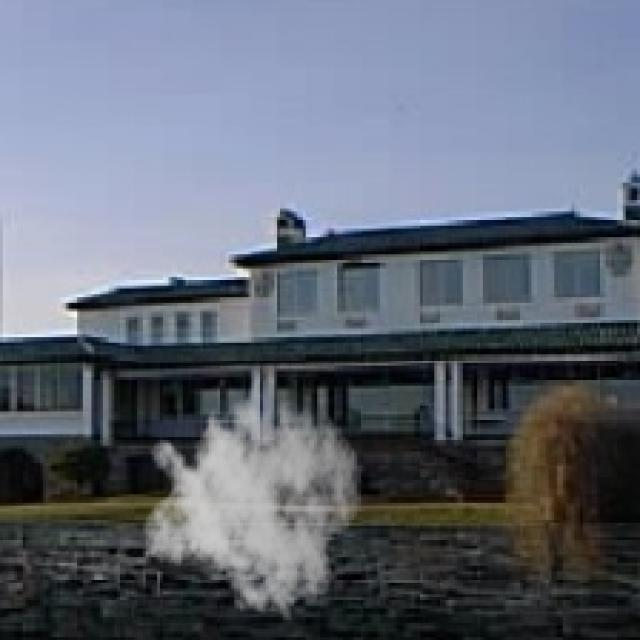smoke: (143, 368, 363, 623)
